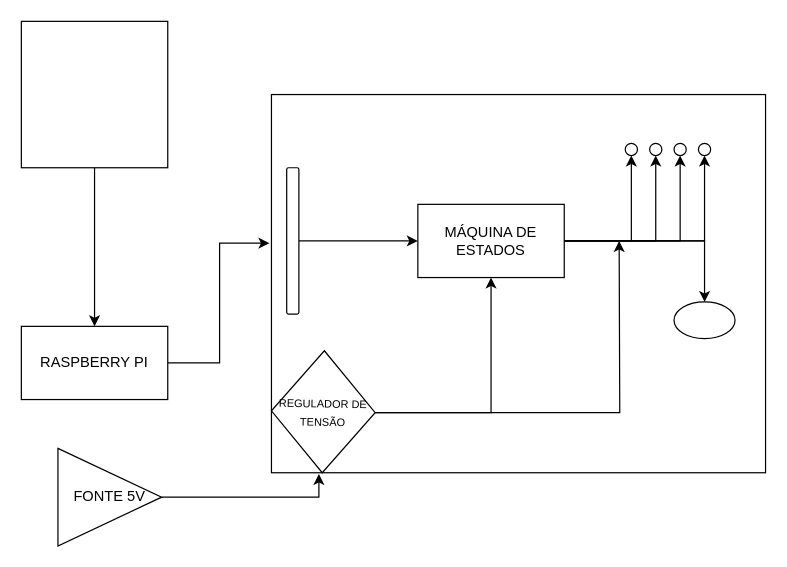
Some shapes in this 787 by 567 pixel diagram are drawn without their labels. The shapes that lost their labels are listed below. From the top down, each one's box as (x1, y1, x2, y2) in pixels, then its label:
(20, 20, 168, 168): WEBCAM
(673, 301, 735, 339): BUZZER
